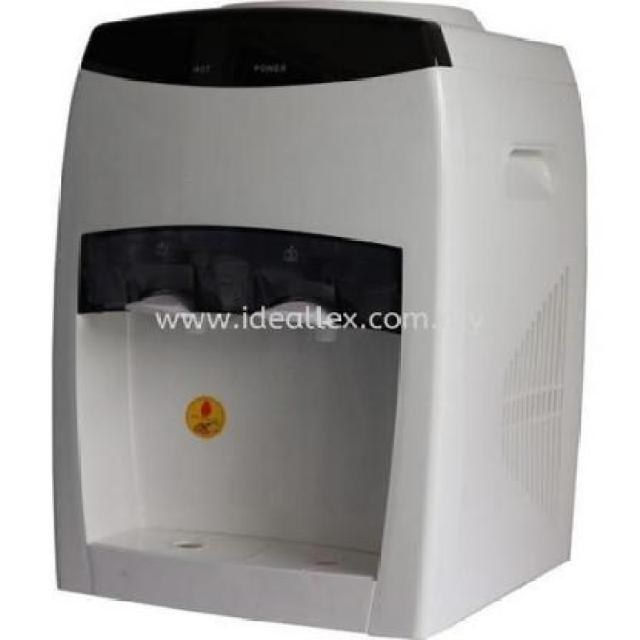cooler: (46, 0, 591, 640)
